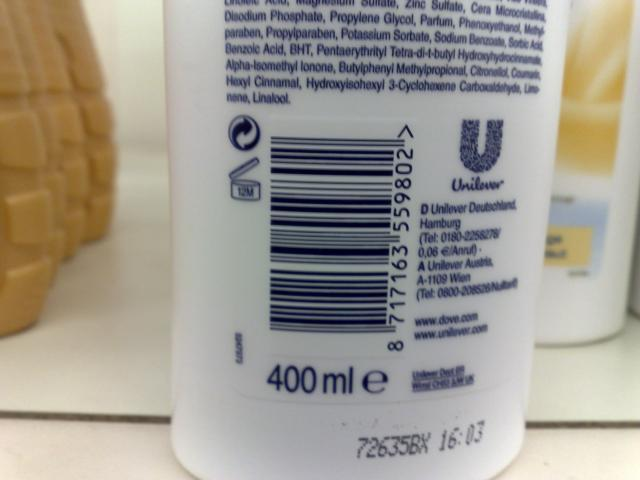Barcode: (270, 117, 420, 362)
